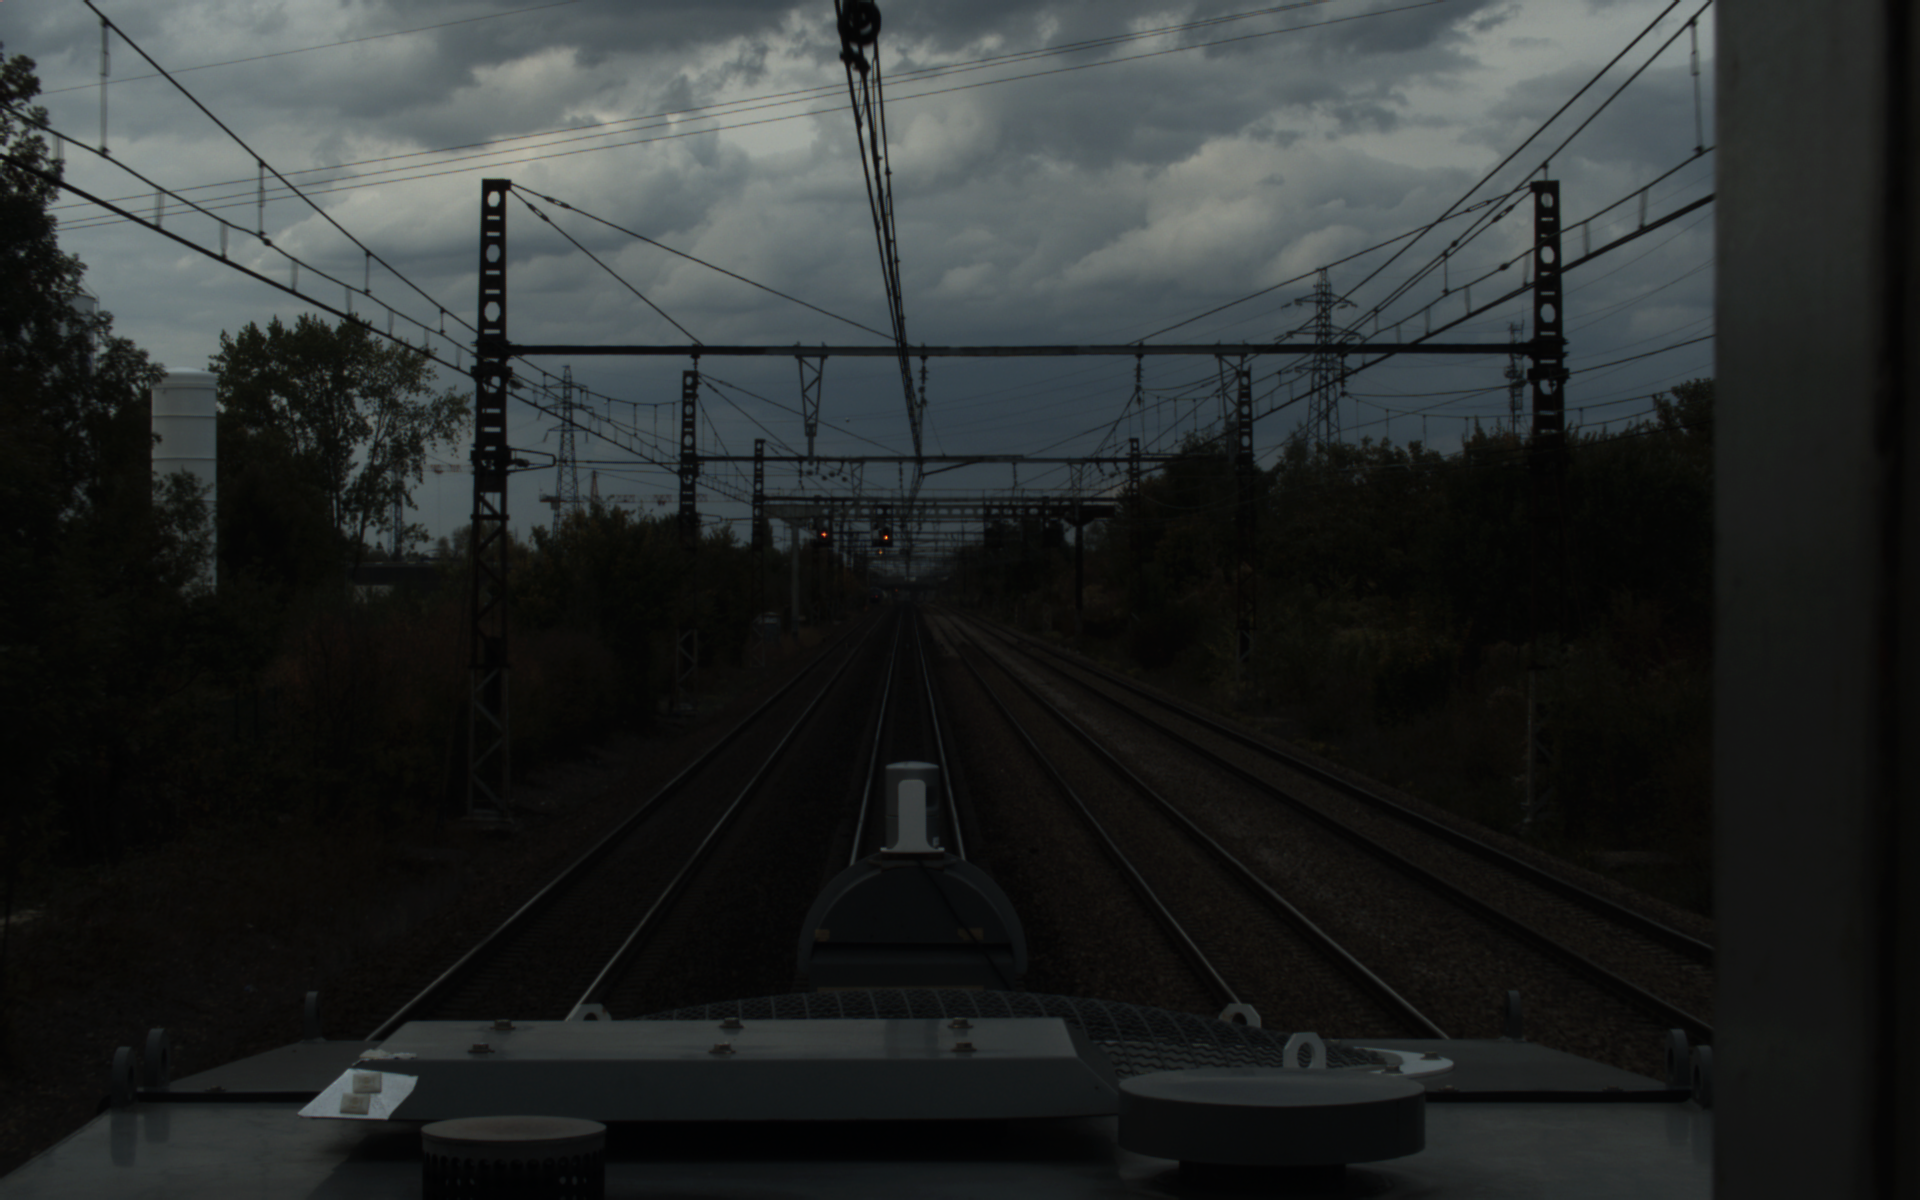Blinking: (878, 524, 892, 543)
Fixed: (816, 525, 829, 542)
